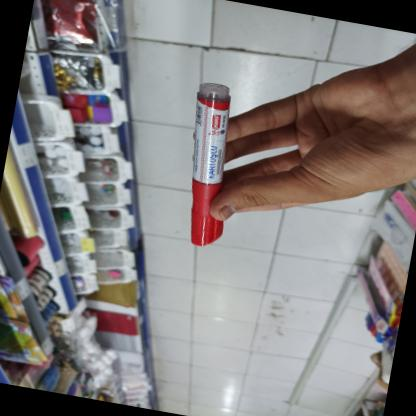pencil: (168, 74, 248, 252)
